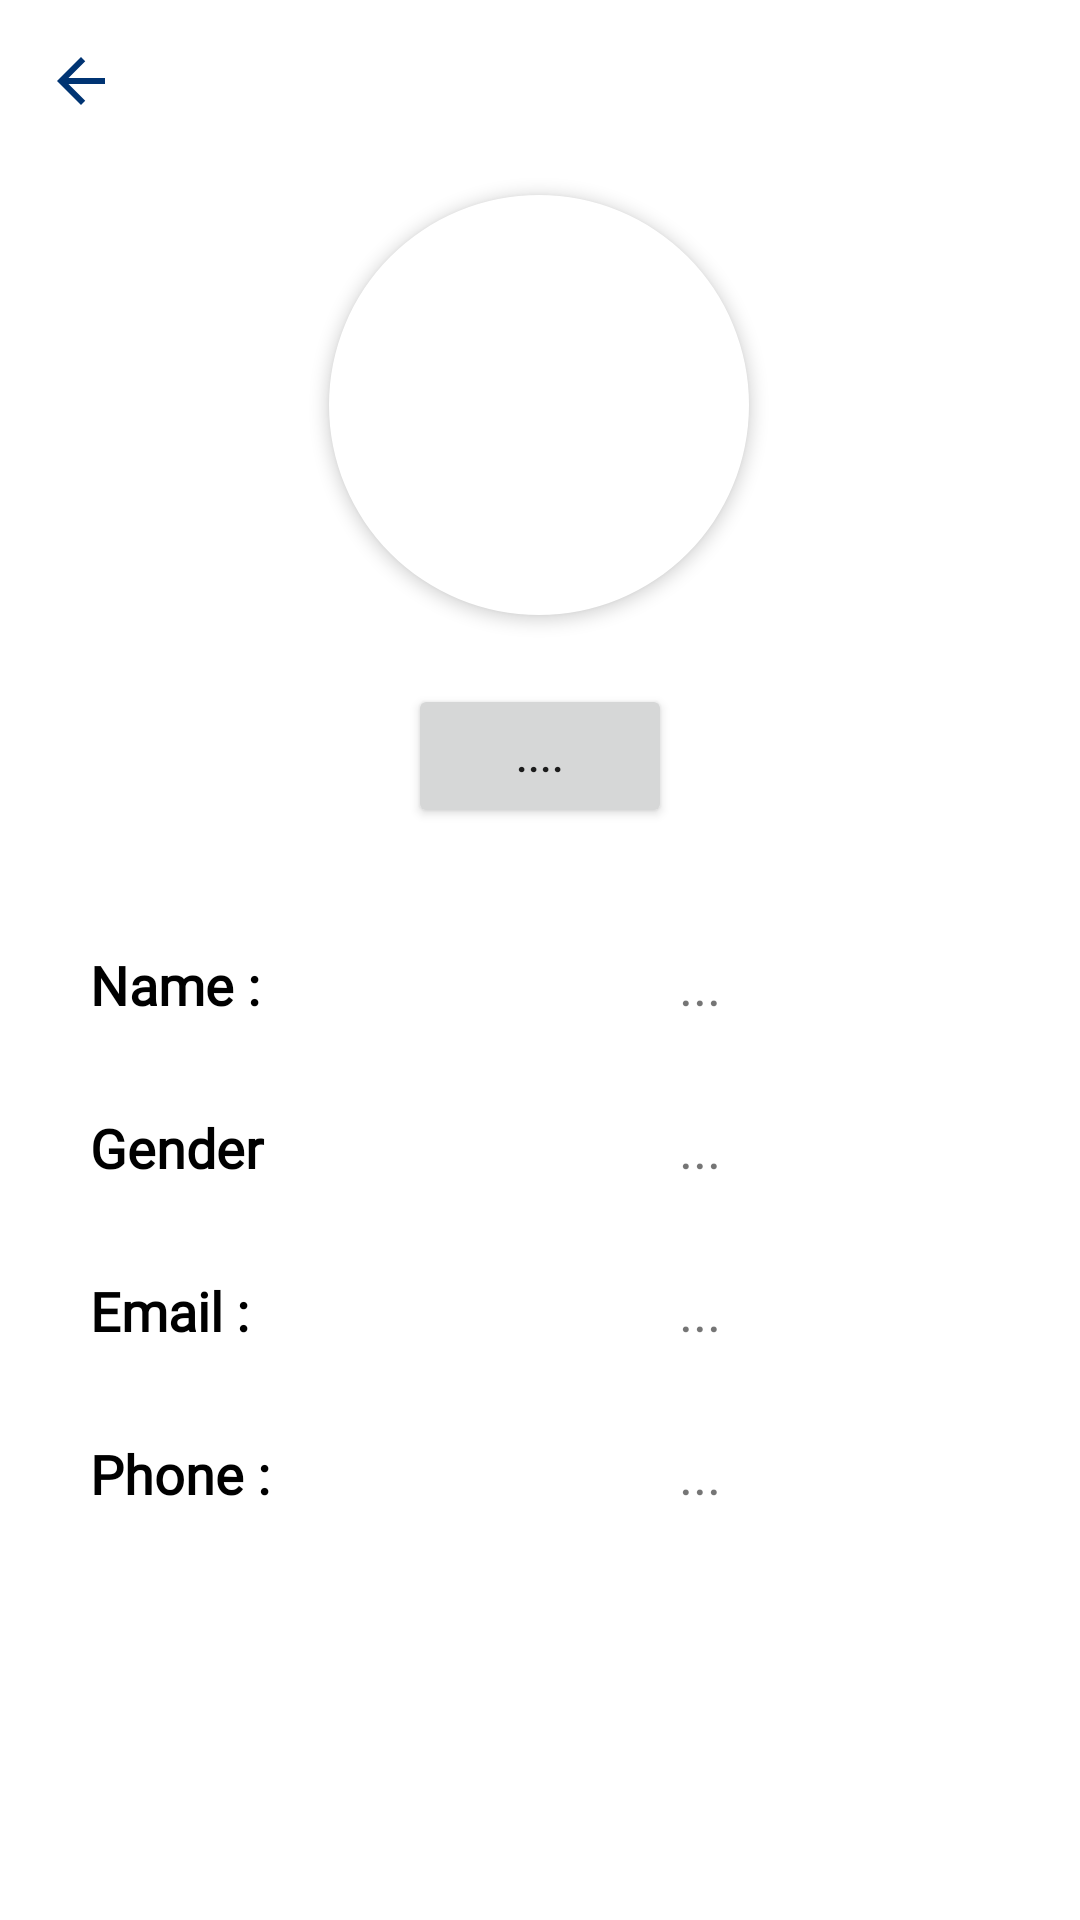

Where to tap for icons on this 1080×1920 app screen, as [x,y]:
arrow back: [81,81]
